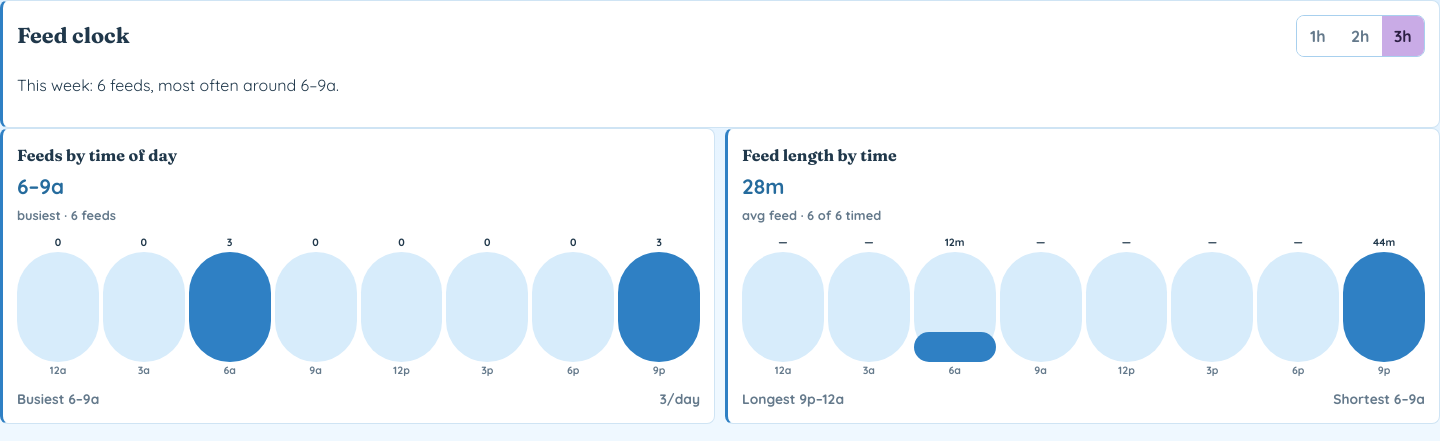
Test case: FeedClock › re-buckets the charts when a narrower band is picked
Check: the button named "6–9a: 3 feeds · 3/day" is shown, box [189,237,271,377]
Click the button "1h".
click(1318, 36)  # box [1296,16,1339,56]
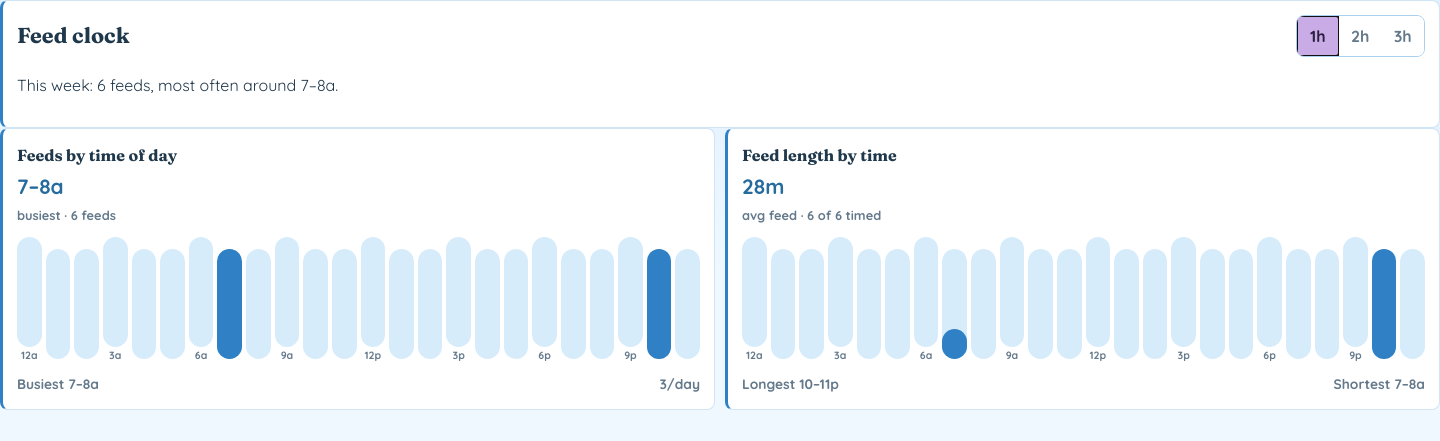
Check: the button named "7–8a: 3 feeds · 3/day" is shown, box [217,249,242,362]
Check: the button named "10–11p: 3 feeds · 3/day" is shown, box [647,249,671,362]
Check: the button named "10–11p: 44m avg · 40m–48m · 3 timed" is shown, box [1372,249,1396,362]
